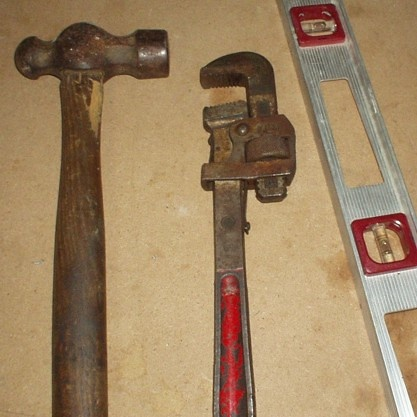hammer: (16, 22, 172, 417)
